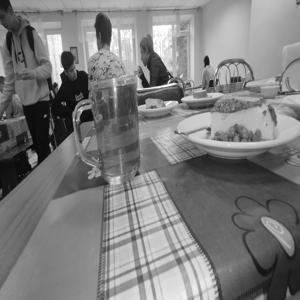tea: (77, 64, 150, 190)
